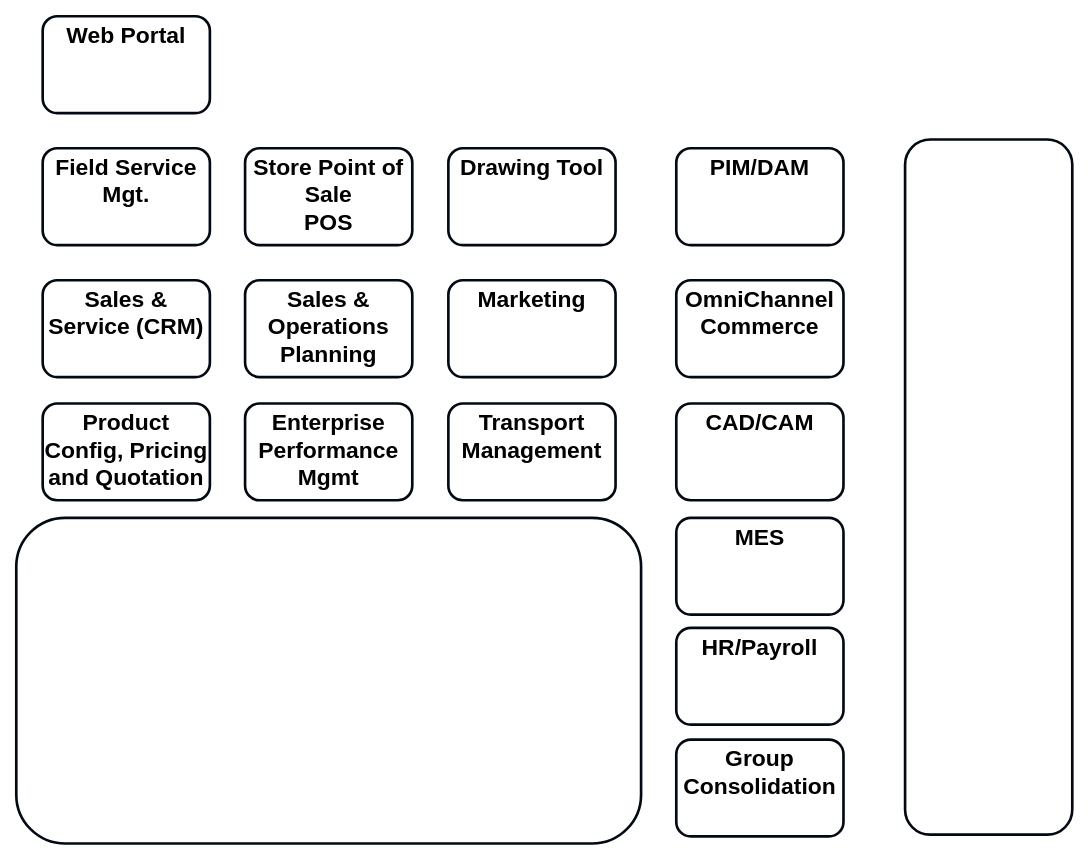
This 1089x860 diagram has some shape labels left out. Each missing label, with the centre of its shape:
Analytics & BI: (988,487)
Core ERP: (328,680)
